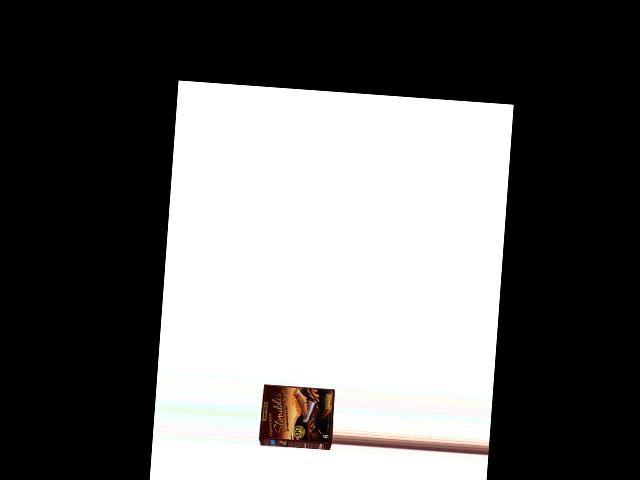chocolate: (257, 377, 336, 454)
